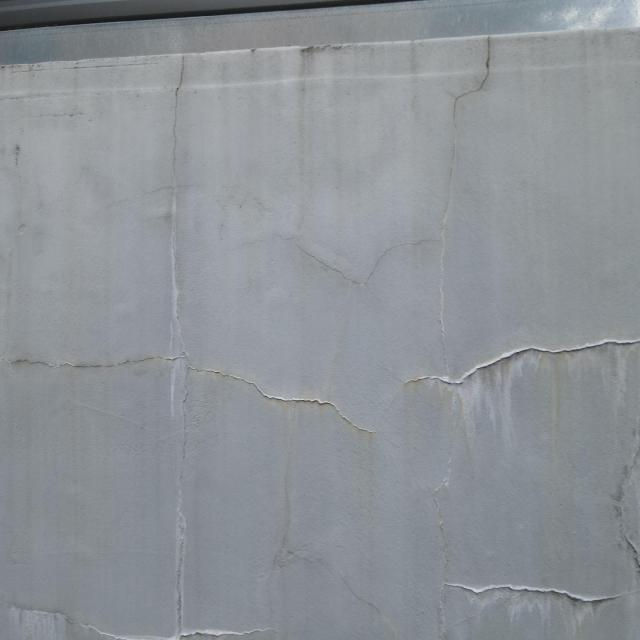SurfaceCrack: (166, 299, 638, 450), (446, 544, 640, 638)
